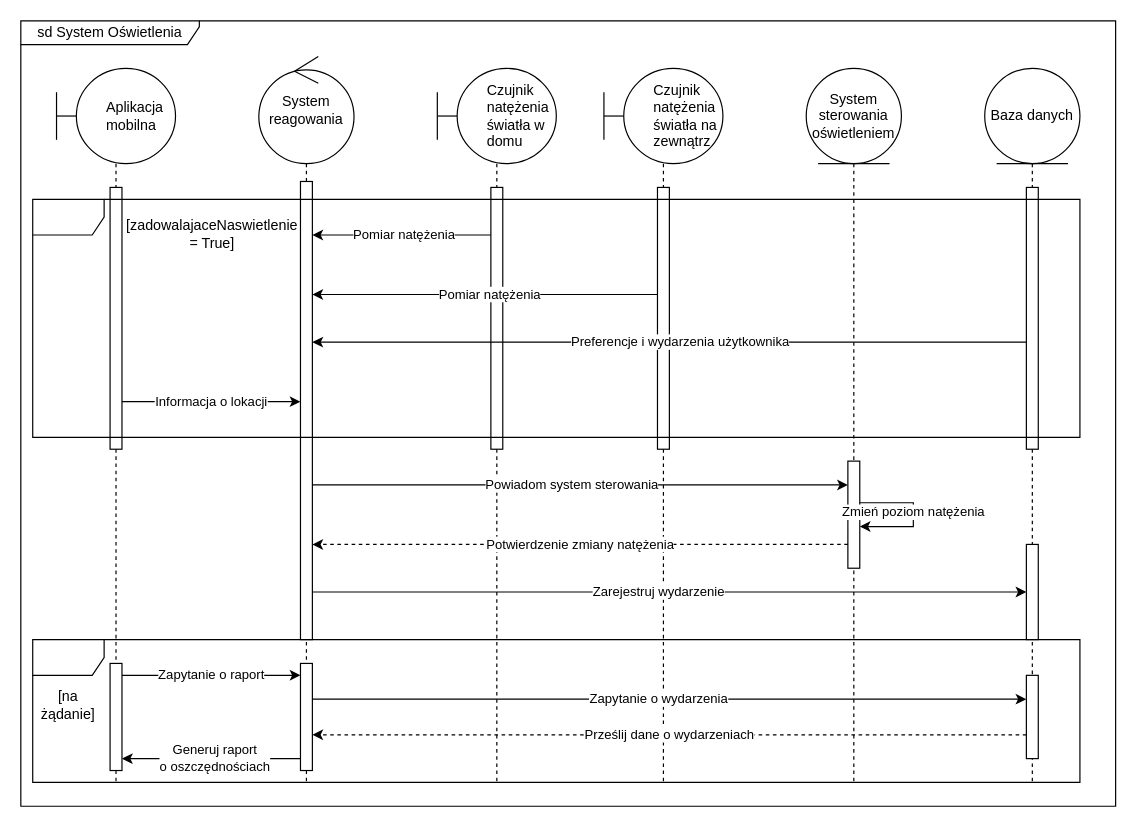
Some shapes in this 1136 by 827 pixel diagram are drawn without their labels. Each missing label, with the centre of its shape:
"alt" goes at point 556,710.
"loop" goes at point 556,317.
